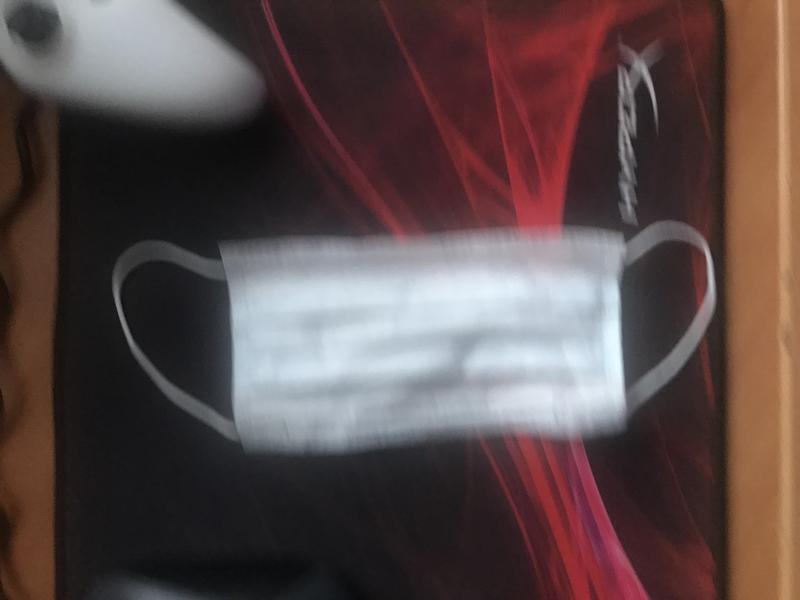medical_mask: (113, 222, 714, 451)
